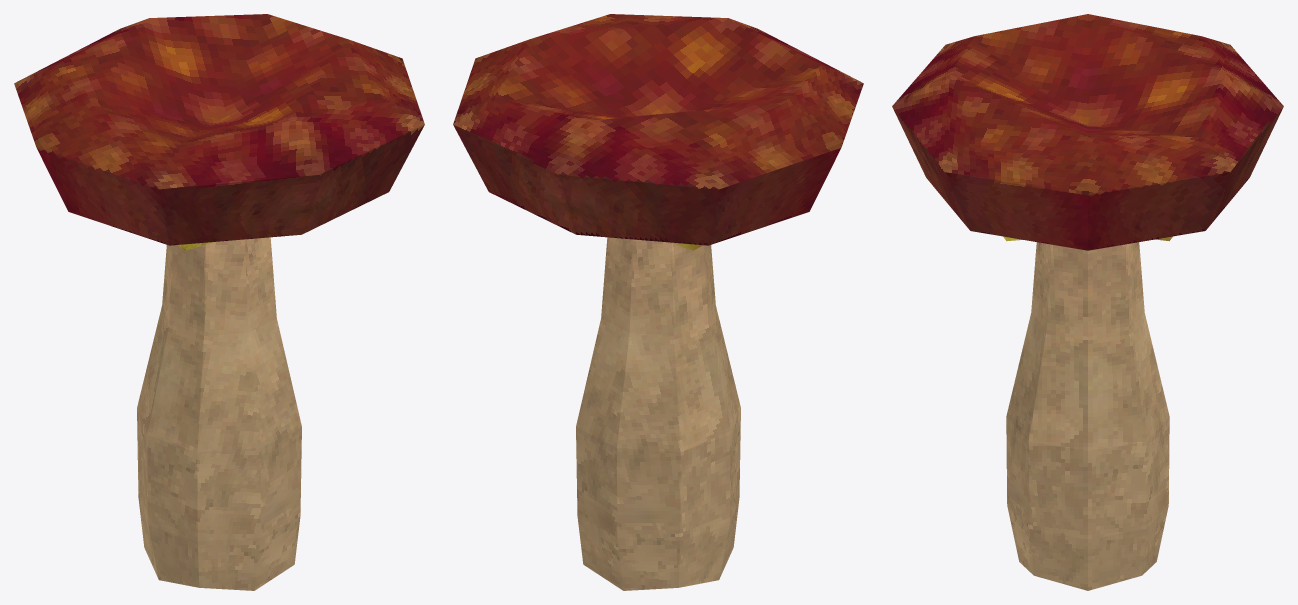
The model's file is mushroom_05.glb.
3 views of the same model, side by side, from view 1: azimuth 30°, elevation 25°; view 2: azimuth 150°, elevation 25°; view 3: azimuth 270°, elevation 25° (orthographic).
Visible parts, largest first — view 1: MUSH_05; view 2: MUSH_05; view 3: MUSH_05.
Part boxes in pixels (x1,y1,x2,y2): MUSH_05: (14, 14, 424, 590); MUSH_05: (453, 14, 863, 590); MUSH_05: (892, 14, 1283, 590).
Size of the model in its own units: 1.7 by 2.29 by 1.6.
1 material, 1 textured.
